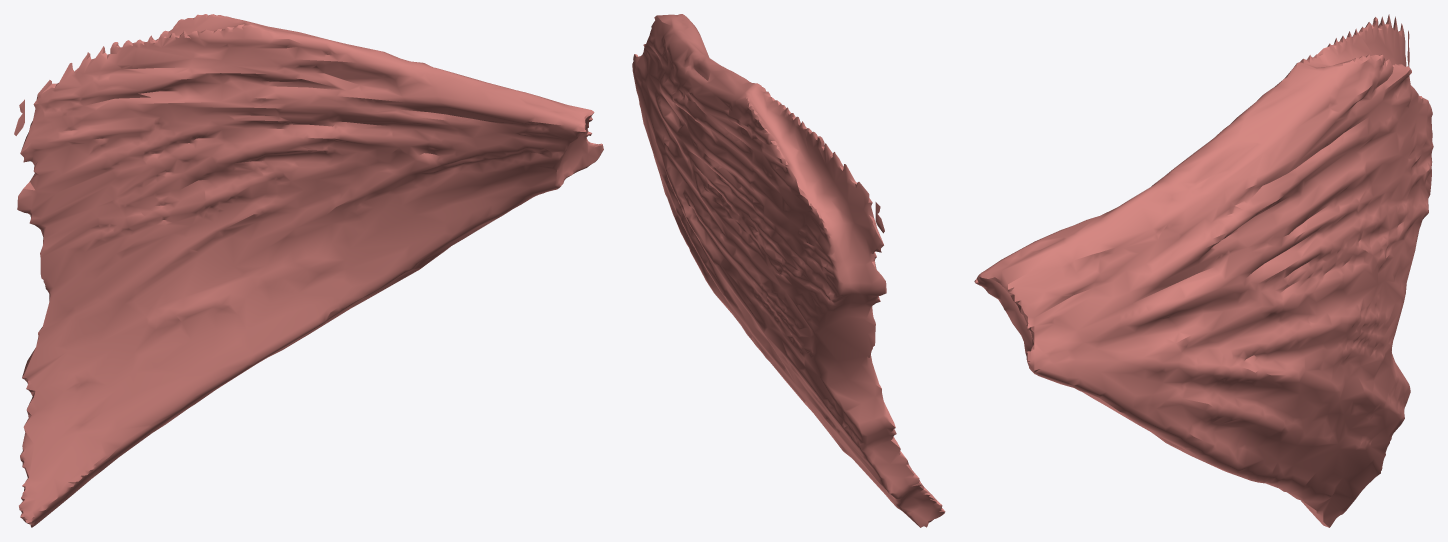
The model's file is fma46444.glb.
3 renders of one model, left to right at view 1: azimuth 30°, elevation 25°; view 2: azimuth 150°, elevation 25°; view 3: azimuth 270°, elevation 25°, orthographic. The views are drawn at different scales.
Visible parts, largest first — view 1: FMA46444; view 2: FMA46444; view 3: FMA46444.
Part boxes in pixels (x1,y1,x2,y2): FMA46444: (14, 14, 603, 527); FMA46444: (632, 14, 945, 527); FMA46444: (974, 14, 1433, 527).
Bounding box in the file's own units: 0.0429 × 0.0398 × 0.028.
